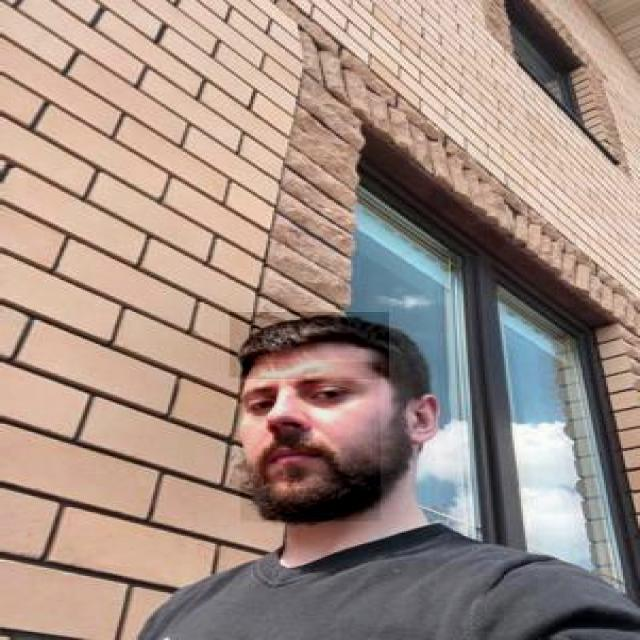face_nomask: (238, 362, 381, 523)
head_nohelmet: (228, 312, 389, 379)
